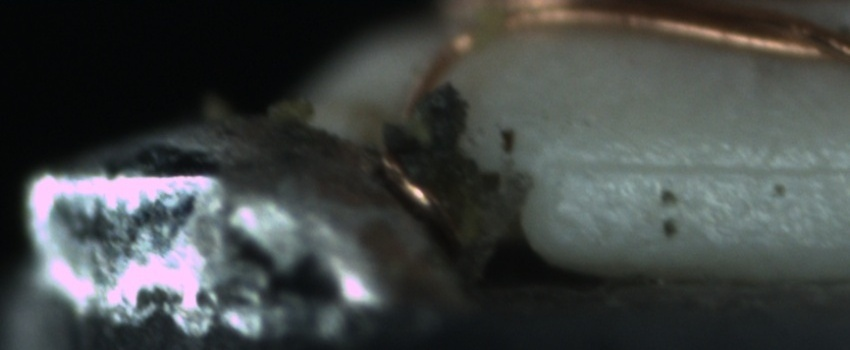DL: (583, 135, 849, 198)
